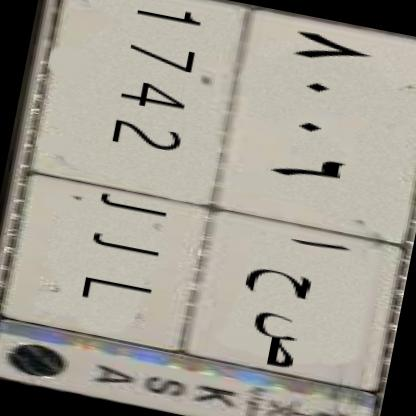english: (11, 0, 259, 364)
